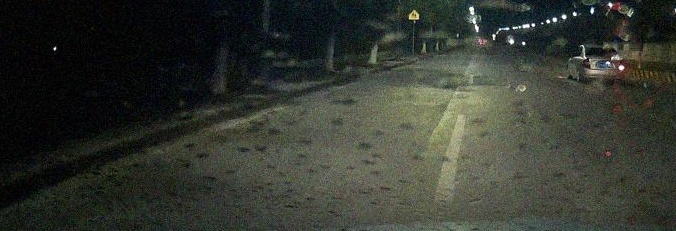L_light: (583, 57, 590, 69)
R_light: (619, 59, 624, 70)
T_light: (598, 47, 605, 50)
night-right: (580, 45, 625, 85)
